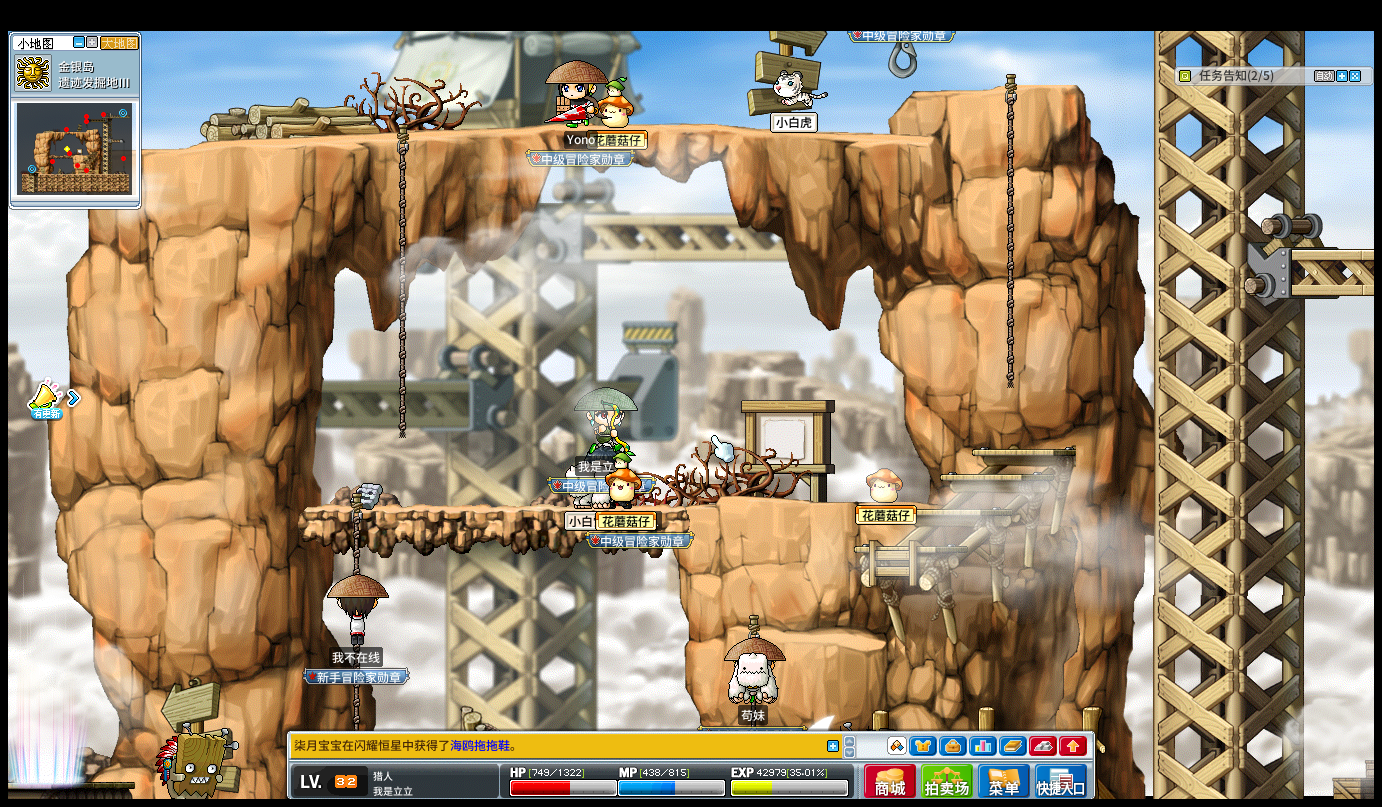floor: (137, 116, 919, 149), (299, 504, 667, 516), (912, 79, 1085, 94), (779, 628, 886, 650), (911, 83, 1090, 96), (853, 546, 964, 559), (1289, 244, 1379, 260), (793, 498, 945, 507), (967, 446, 1074, 457), (936, 471, 1051, 481), (851, 545, 966, 554), (891, 504, 1006, 513), (908, 506, 1011, 516)
monster: (157, 729, 235, 795)
rope: (1002, 65, 1017, 393), (394, 121, 407, 439), (349, 492, 362, 574), (350, 683, 359, 730)
